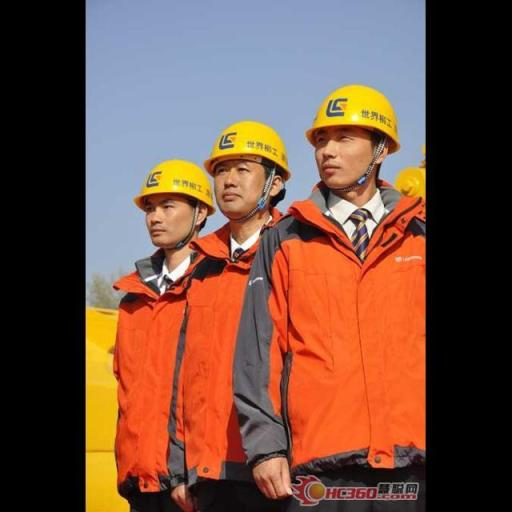Person: (268, 81, 430, 492), (183, 114, 299, 484), (106, 153, 200, 498)
helmet: (300, 80, 406, 160), (200, 115, 290, 185), (133, 152, 217, 222), (387, 144, 424, 228)
vest: (212, 166, 427, 504), (157, 197, 307, 508), (101, 234, 210, 508)
